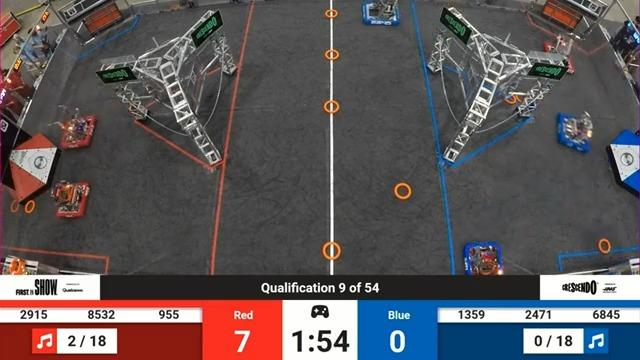robot: (44, 100, 97, 153), (552, 104, 601, 157), (42, 176, 96, 219), (459, 233, 508, 275), (544, 32, 580, 78), (358, 0, 402, 30)
